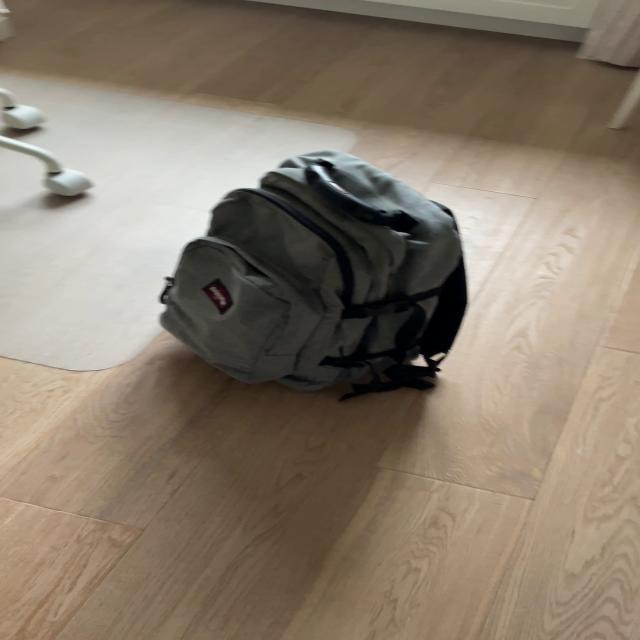backpack: (144, 138, 481, 398)
